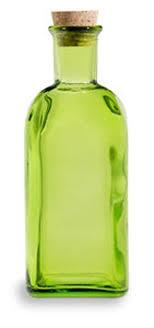glass: (13, 9, 141, 302)
